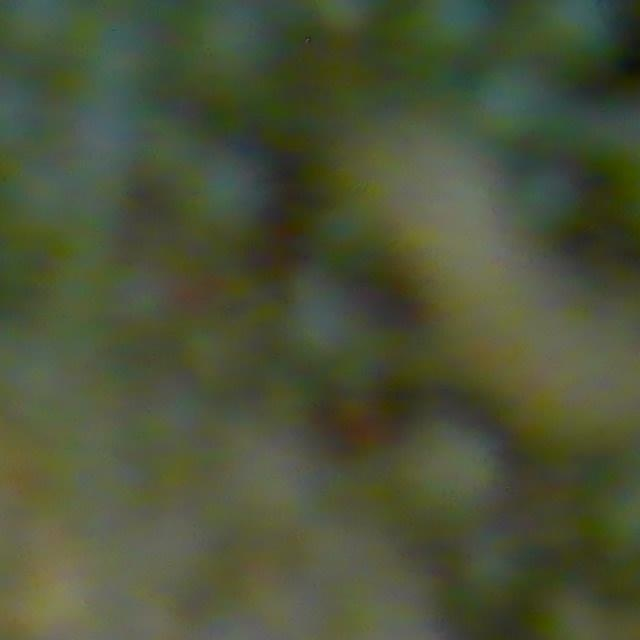SeaGrape: (394, 417, 503, 525), (185, 0, 281, 86), (180, 148, 271, 238), (277, 273, 367, 364), (471, 59, 559, 144), (525, 0, 622, 68), (403, 0, 497, 62), (309, 0, 389, 41)
